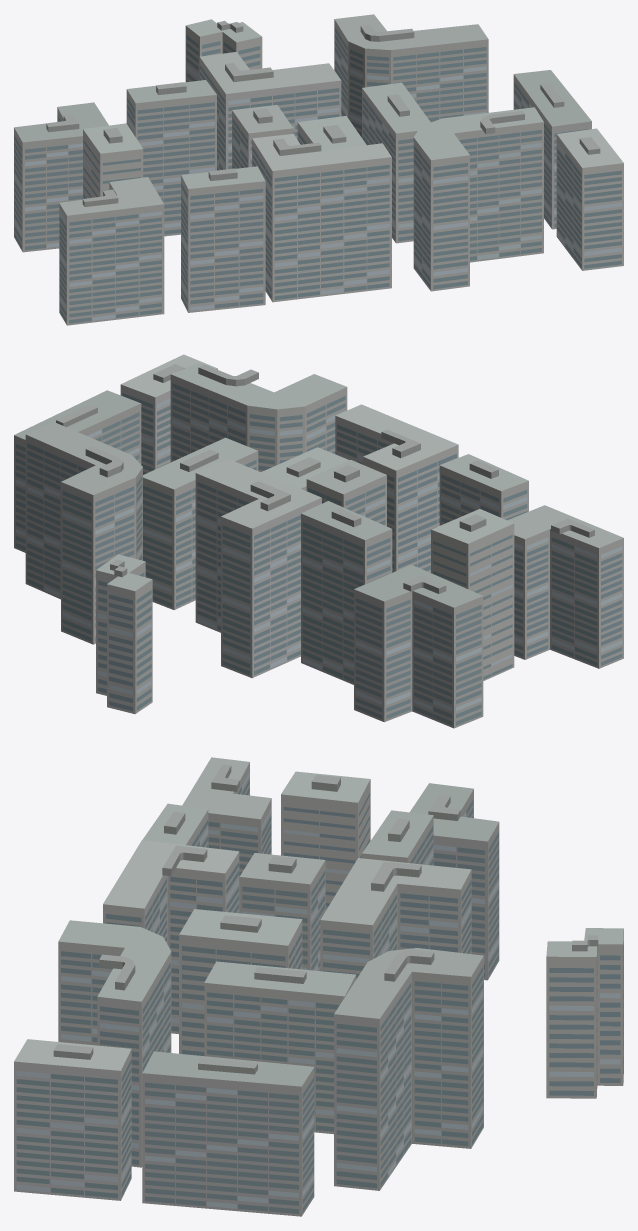
File: apt-a15279404.glb
3 views of the same model, one above another, from view 1: azimuth 30°, elevation 25°; view 2: azimuth 150°, elevation 25°; view 3: azimuth 270°, elevation 25° (orthographic). The views are drawn at different scales.
Visible parts, largest first — view 1: apt-a15279404; view 2: apt-a15279404; view 3: apt-a15279404.
Part boxes in pixels (bbox=[...]): apt-a15279404: bbox=[14, 14, 623, 325]; apt-a15279404: bbox=[14, 354, 623, 728]; apt-a15279404: bbox=[14, 757, 623, 1216].
Size of the model in its own units: 222 by 58 by 179.
